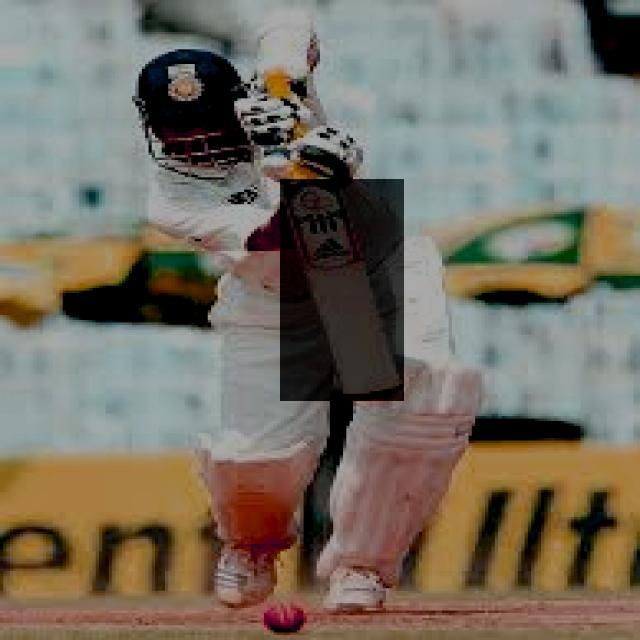bat: (283, 179, 405, 401)
toe: (345, 385, 402, 400)
